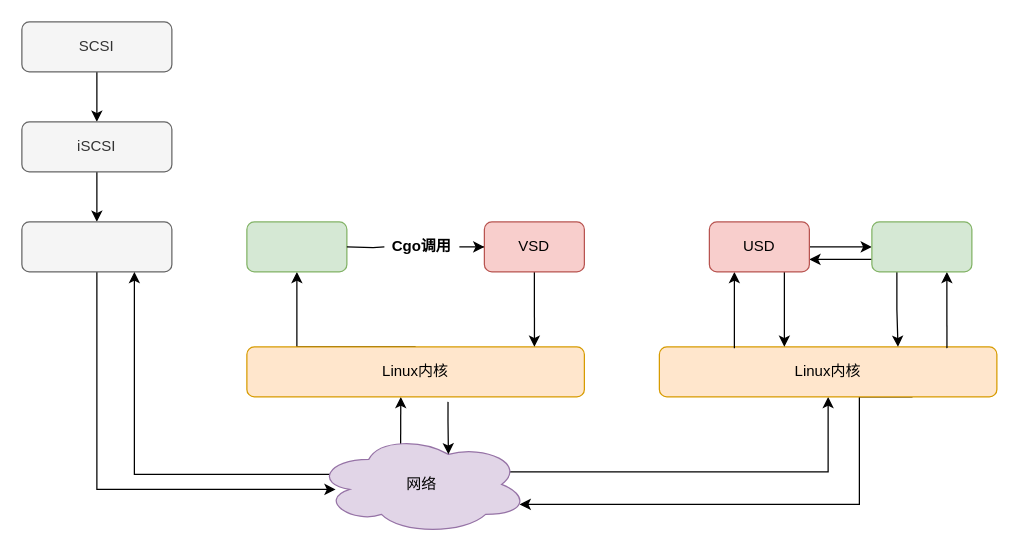
Some shapes in this 1019 by 556 pixel diagram are drawn without their labels. The box of each missing label's shape, as (x1, y1, x2, y2) in pixels:
TCP/IP: (21, 221, 172, 272)
写文件: (871, 221, 972, 272)
魔改tgt线程: (246, 221, 347, 272)
